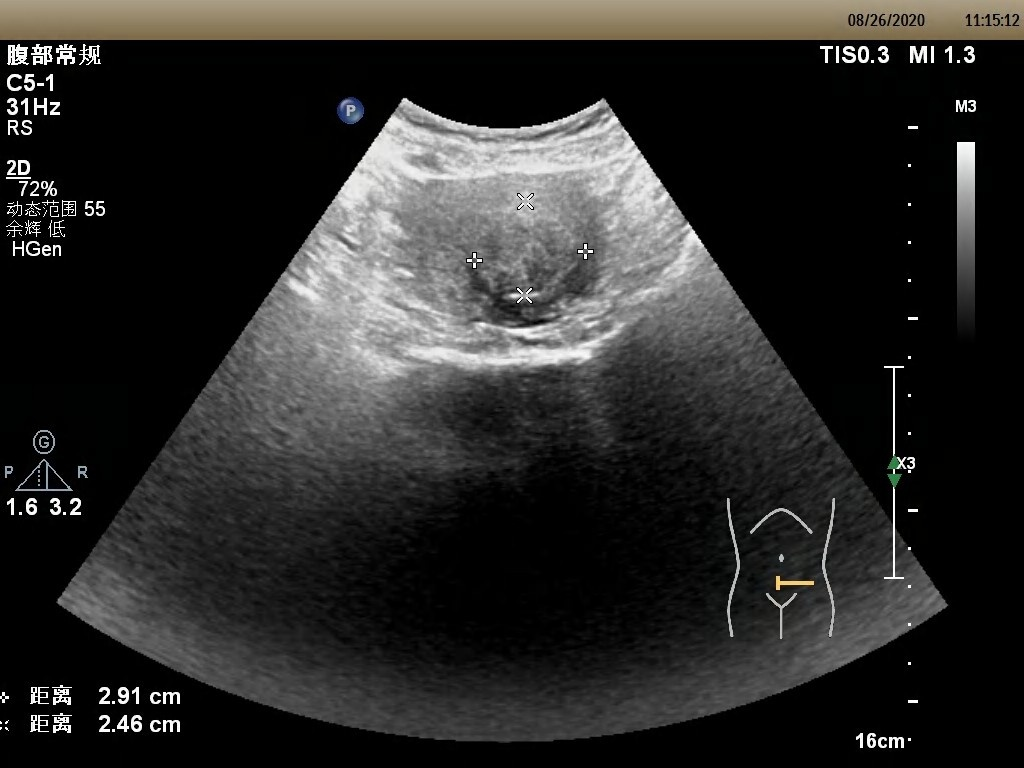肌瘤: (468, 202, 582, 297)
